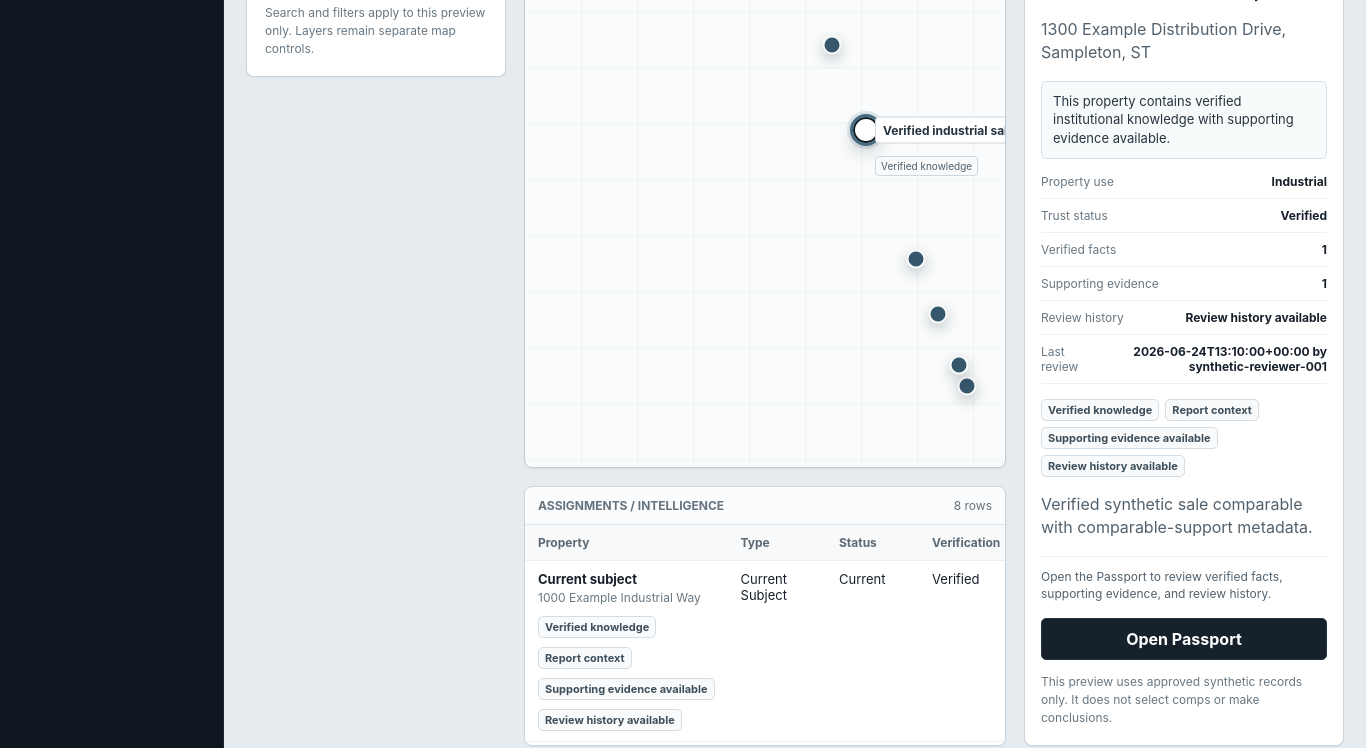
Test: IntelligenceWorkspacePreview › opens audit from evidence and preserves every parent context
(page scrolled)
Click the button named "Select Current subject" at (967, 386), box [957,376,976,396]
(page scrolled)
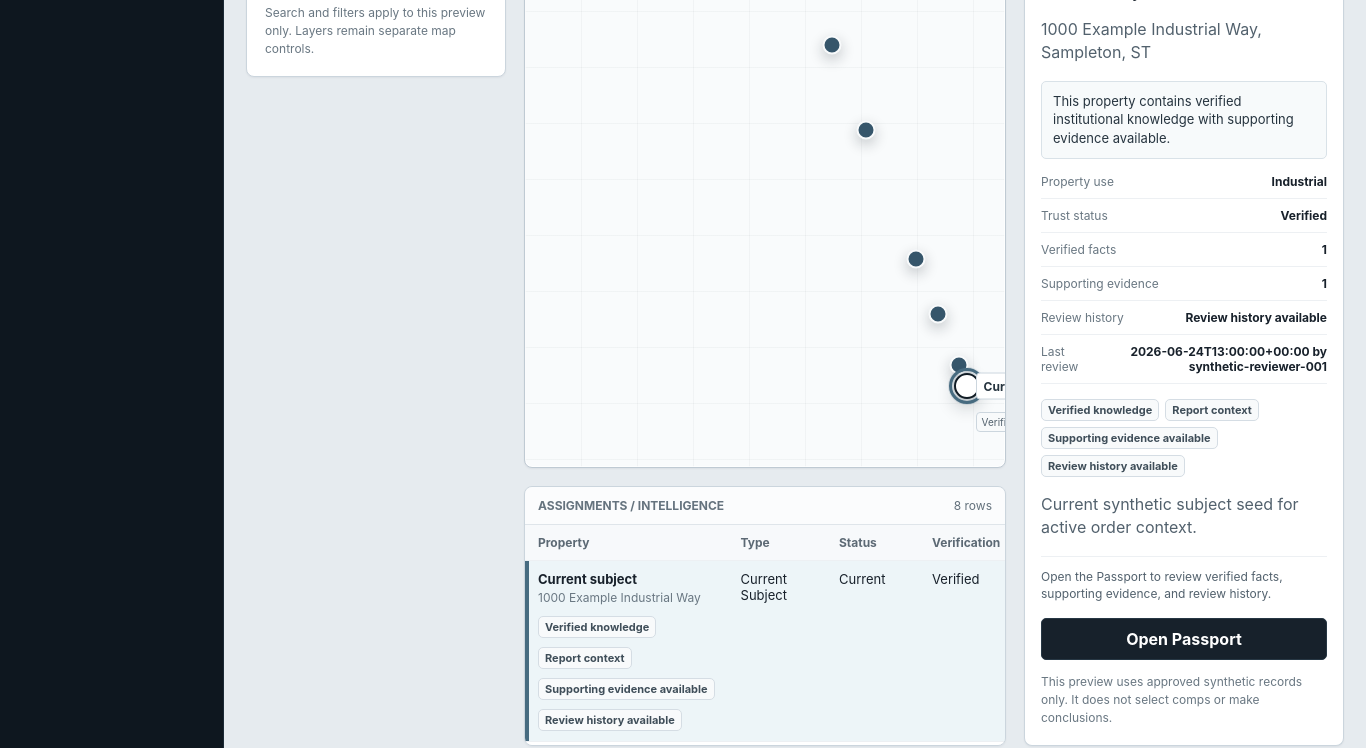
Click the button "Open Passport" at (1184, 639), box [1041,618,1327,660]
(page scrolled)
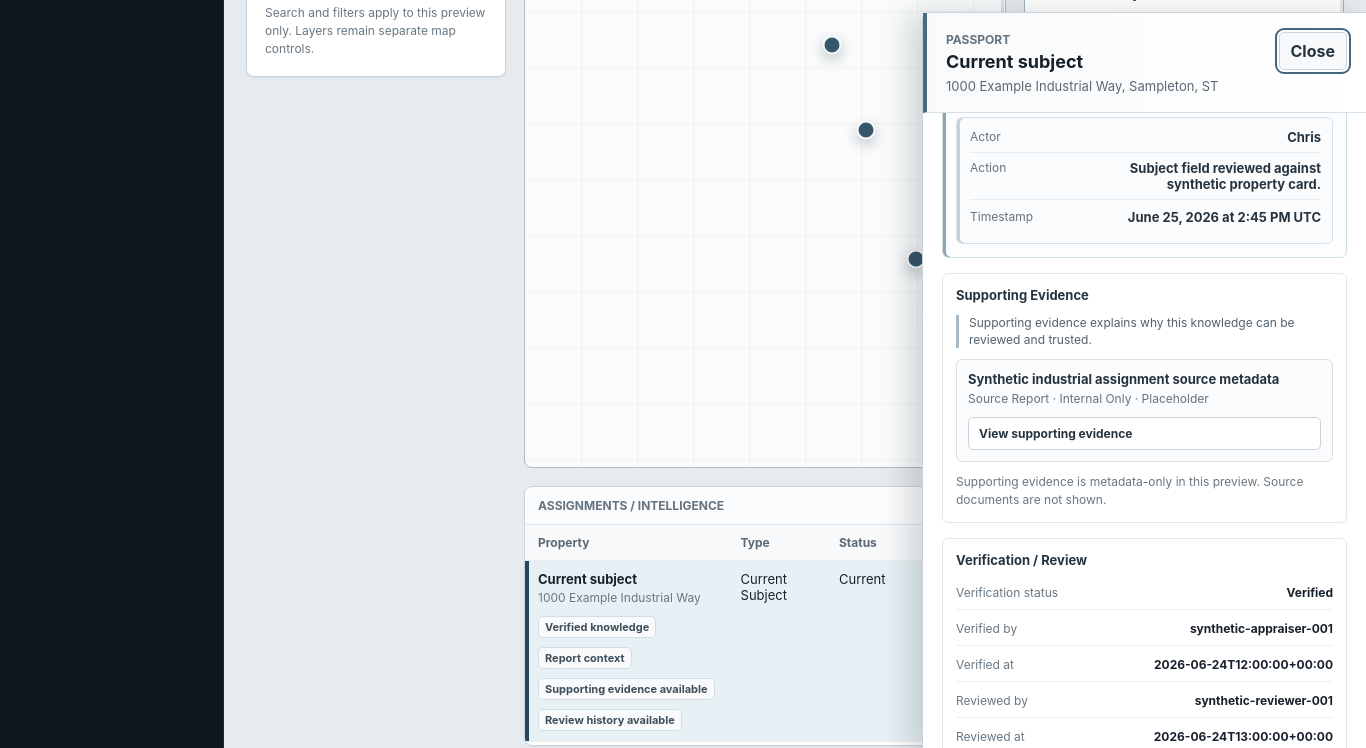
Click the button "View supporting evidence" at (1056, 434), box [968,417,1321,450]
(page scrolled)
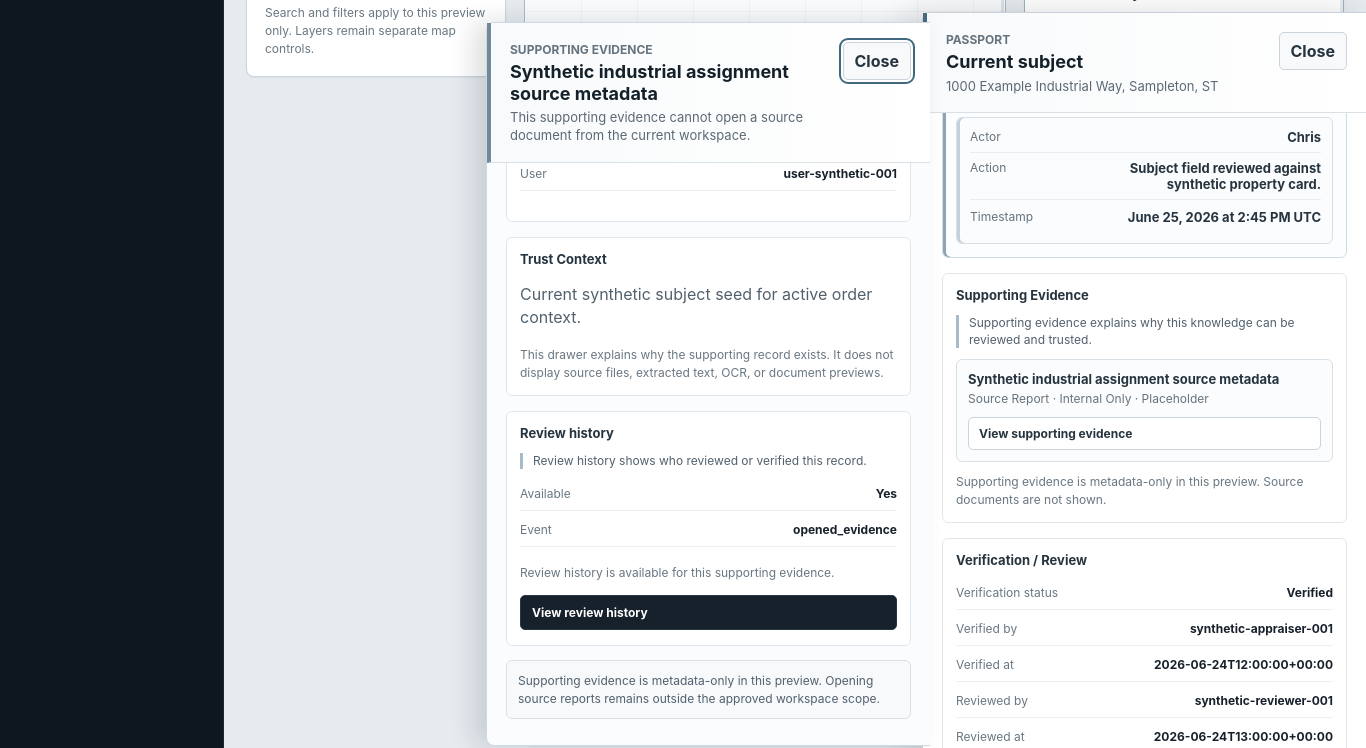
Click the button "View review history" at (590, 613), box [520,595,897,630]
(page scrolled)
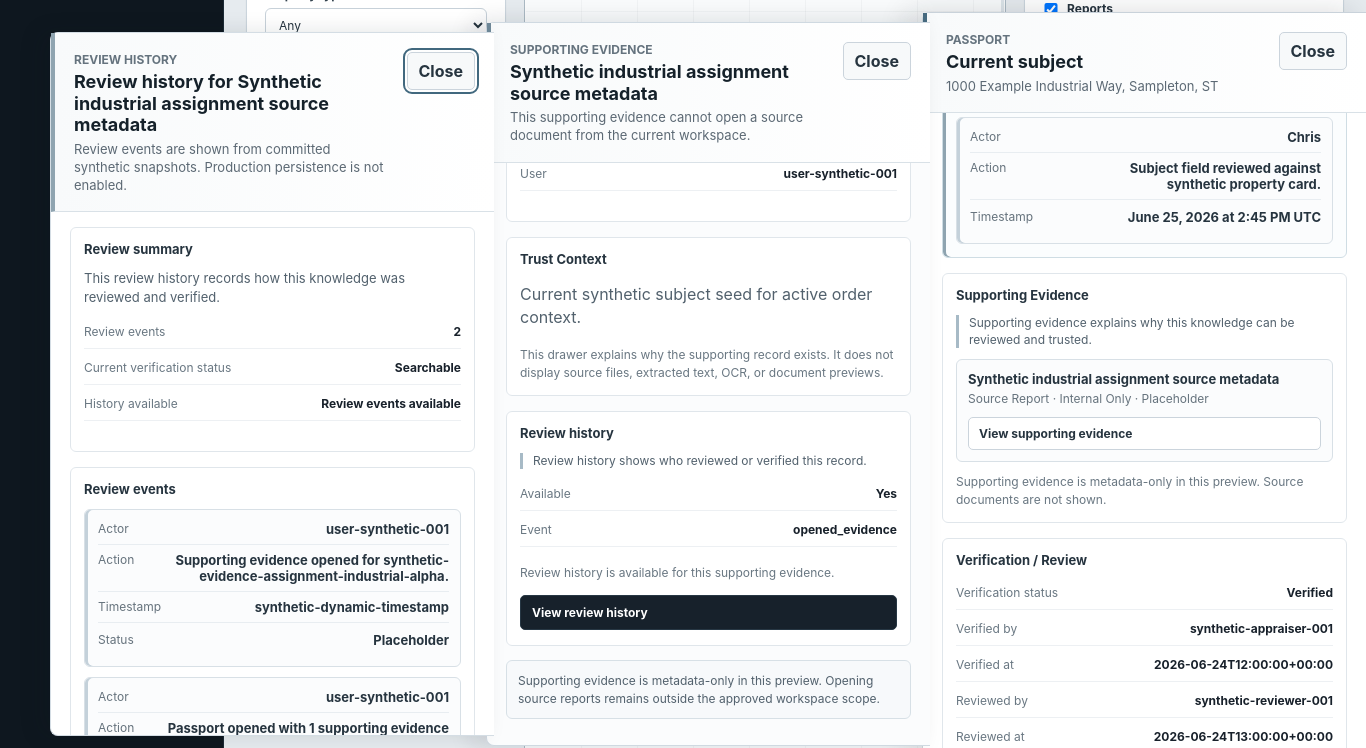
Now the heading "Current subject" is shown, box [946,51,1083,72]
Now the heading "Synthetic industrial assignment source metadata" is shown, box [510,61,824,104]
Now the heading "Review history for Synthetic industrial assignment" is shown, box [74,71,329,135]
